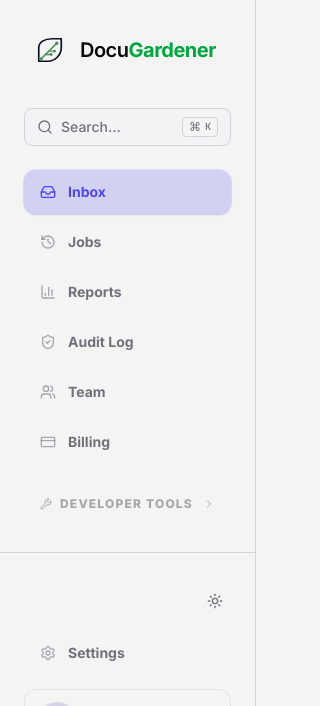
Sidebar › Developer Tools (collapsible) › expands when the toggle is clicked
This screenshot has width=320, height=706.
What coordinates should you click on to do the following:
click the button "Developer Tools"
I would click on:
 (128, 504)
Its box is left=24, top=488, right=231, bottom=520.
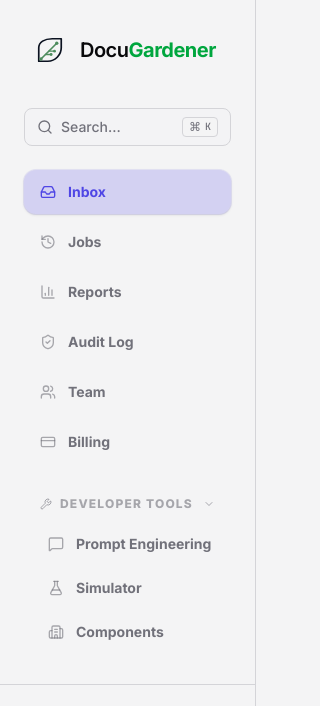
Expected: the link "Prompt Engineering" is shown, left=48, top=535, right=211, bottom=552
Expected: the link "Simulator" is shown, left=48, top=579, right=142, bottom=596
Expected: the link "Components" is shown, left=48, top=623, right=164, bottom=640
